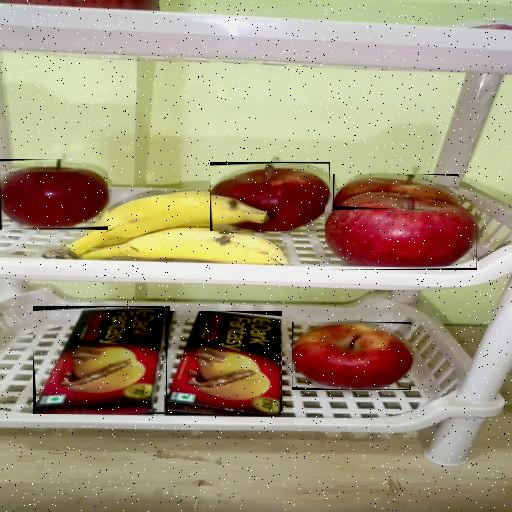Apple: (325, 194, 477, 269), (210, 164, 330, 231), (293, 322, 410, 390), (0, 159, 108, 229), (334, 175, 458, 208)
Choco Fills: (36, 307, 167, 414), (167, 311, 281, 415)
